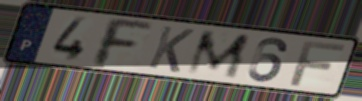4: (49, 16, 87, 63)
6: (247, 36, 289, 84)
F: (92, 15, 155, 69), (287, 39, 349, 88)
K: (145, 24, 197, 75)
M: (183, 30, 253, 80)
